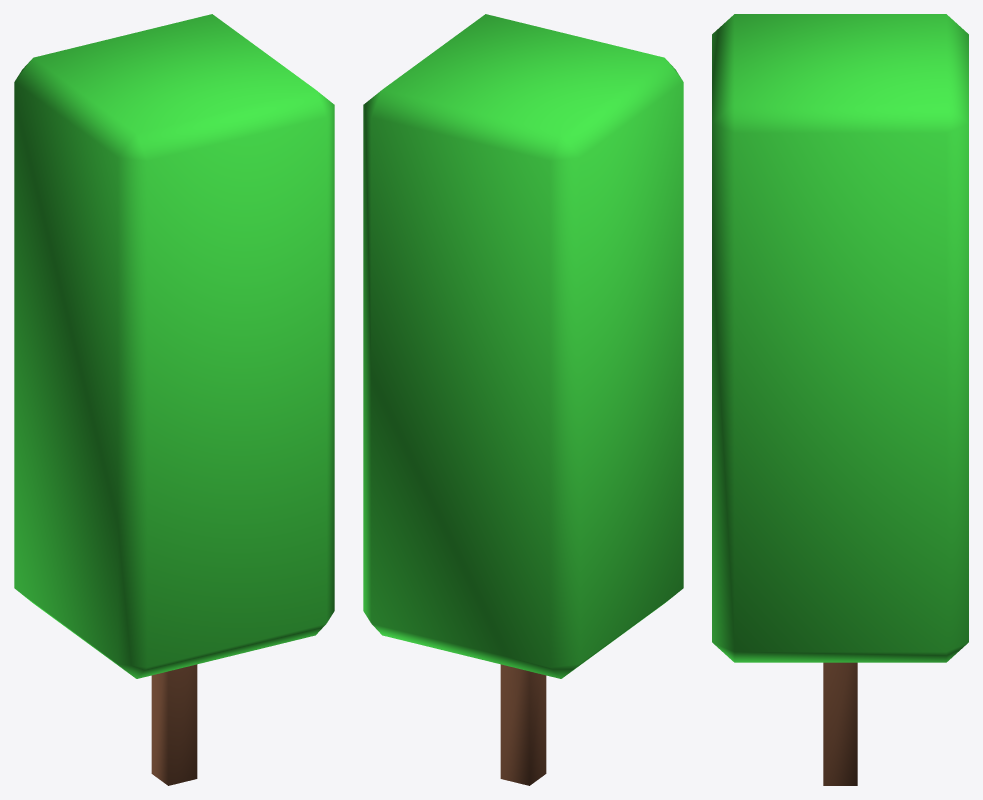
The model's file is small_tree.fbx.
The picture shows the model from 3 angles, left to right: view 1: azimuth 30°, elevation 25°; view 2: azimuth 150°, elevation 25°; view 3: azimuth 270°, elevation 25°; orthographic projection. The views are drawn at different scales.
Visible parts, largest first — view 1: small tree; view 2: small tree; view 3: small tree.
Boxes of the visible parts, bbox=[...] form: small tree: bbox=[14, 14, 334, 785]; small tree: bbox=[363, 14, 683, 785]; small tree: bbox=[712, 14, 968, 785].
Bounding box in the file's own units: 201 × 622 × 201.
